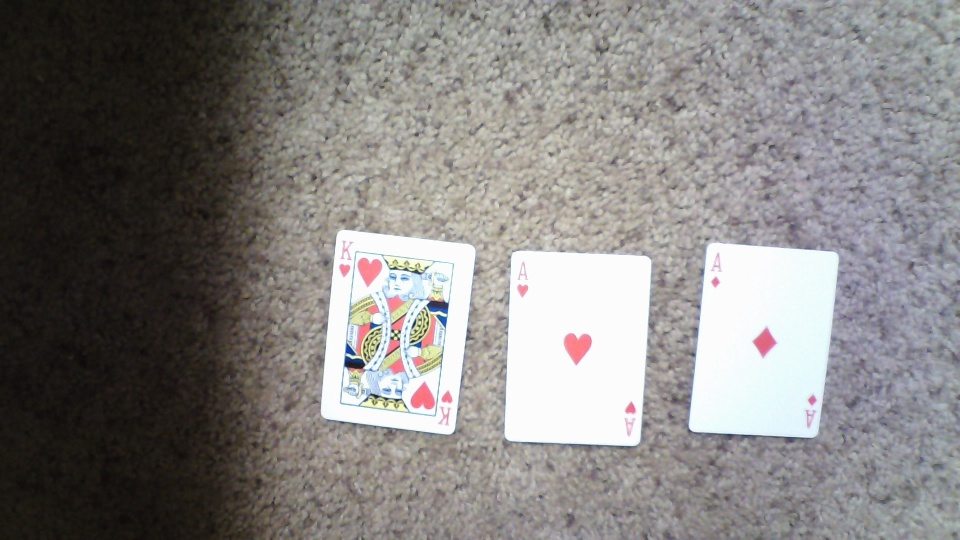ace: (686, 241, 839, 439), (503, 249, 652, 448)
king: (318, 228, 476, 436)
